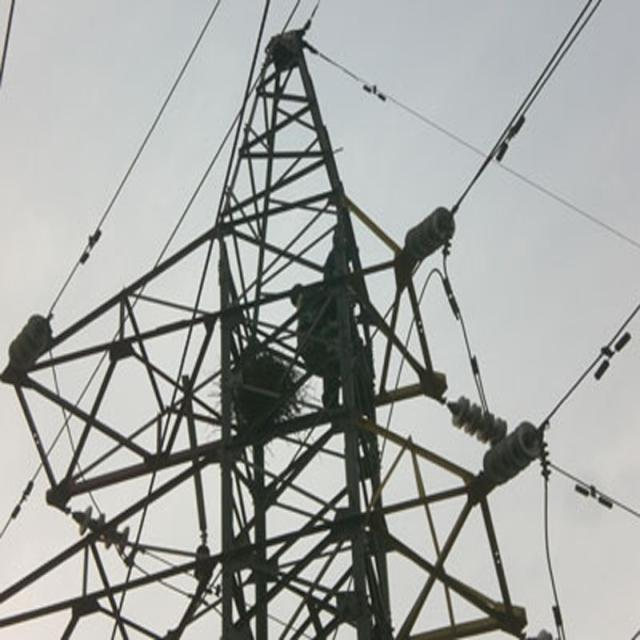non-critical vegetation: (34, 45, 553, 622)
